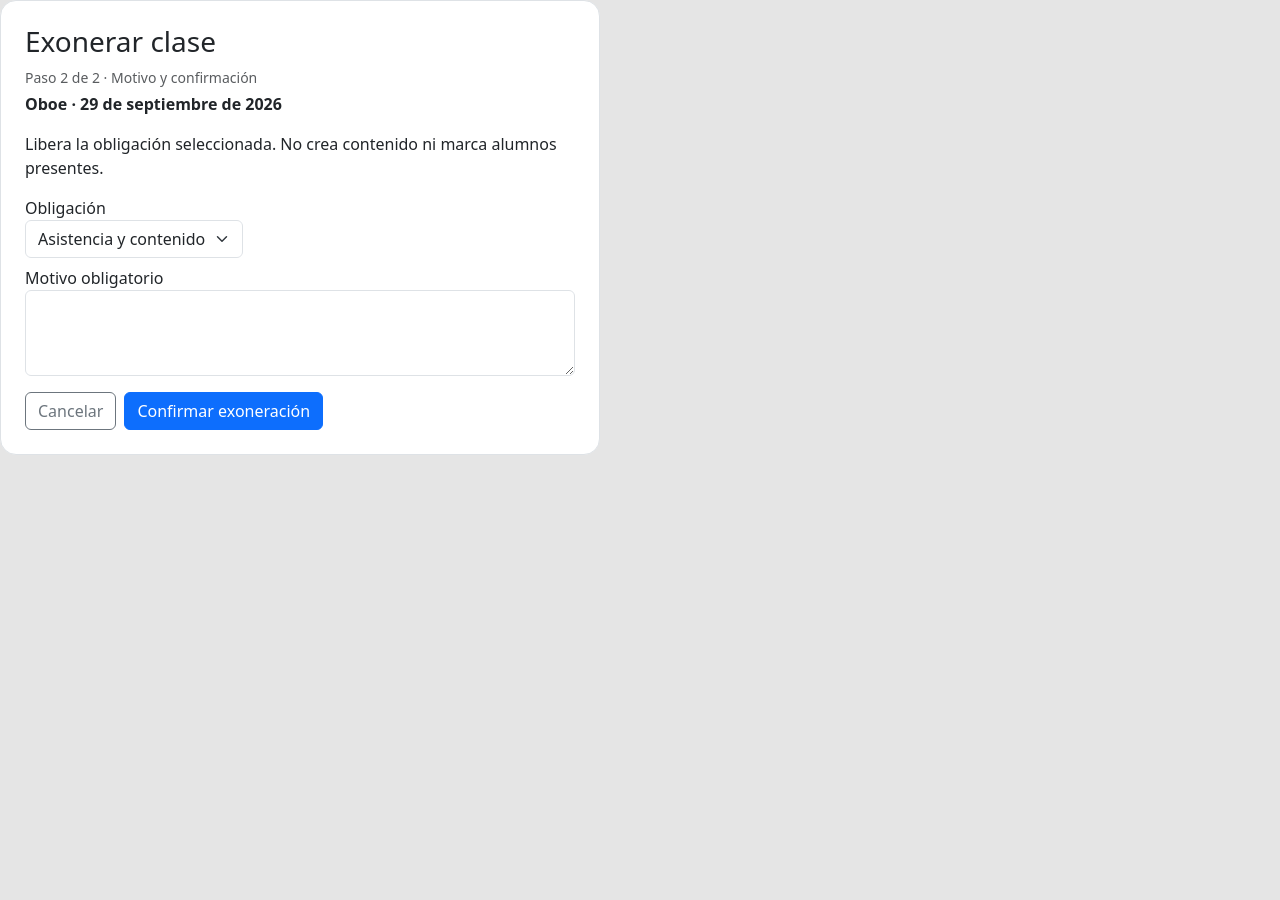
Test case: decisión administrativa › no anuncia éxito antes de persistir y conserva el motivo ante un error
The image size is (1280, 900).
Type "Incidencia de registro verificada" into the text box named "reason" at (300, 333), box [25,290,575,376]
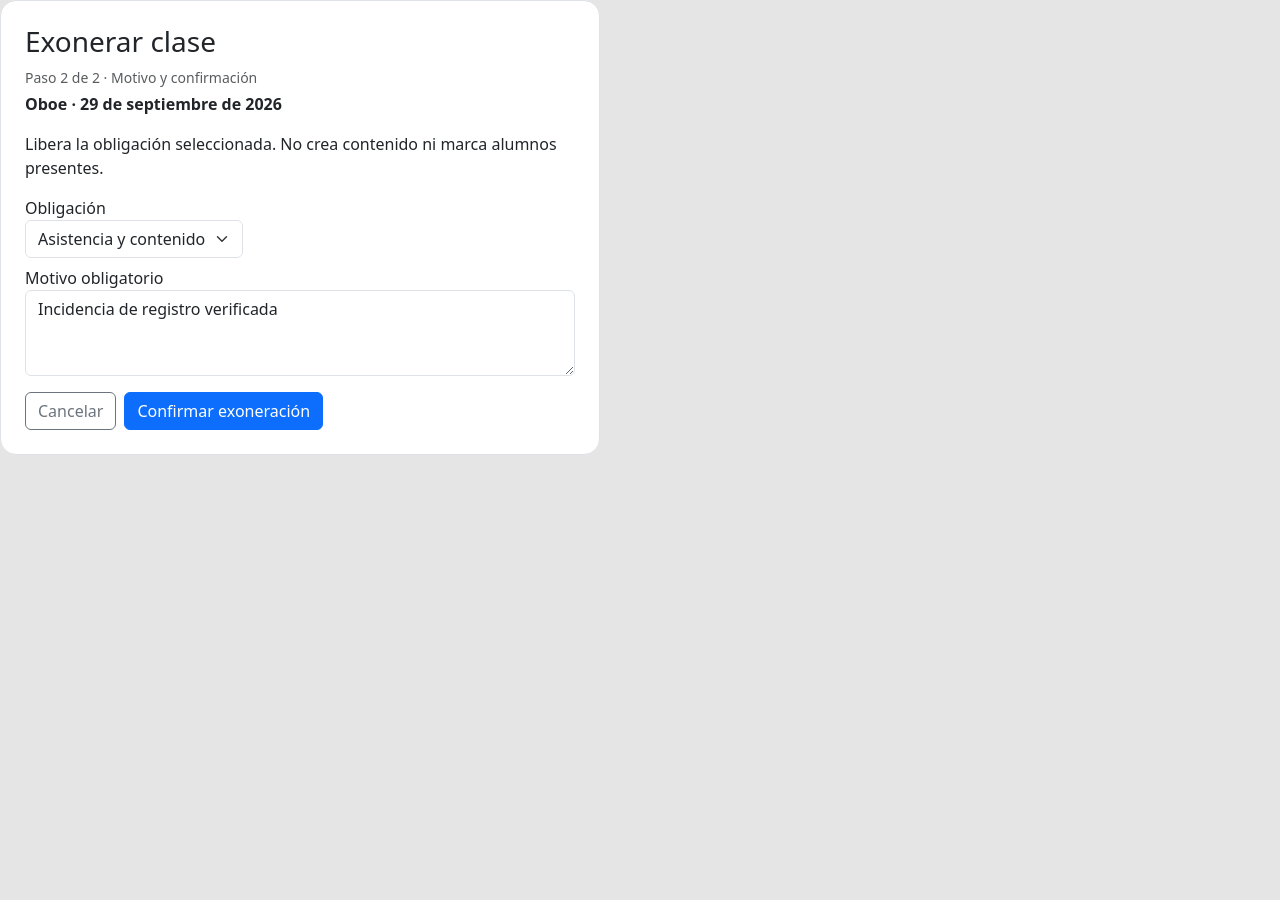
Submit the form, box [25,25,575,430]
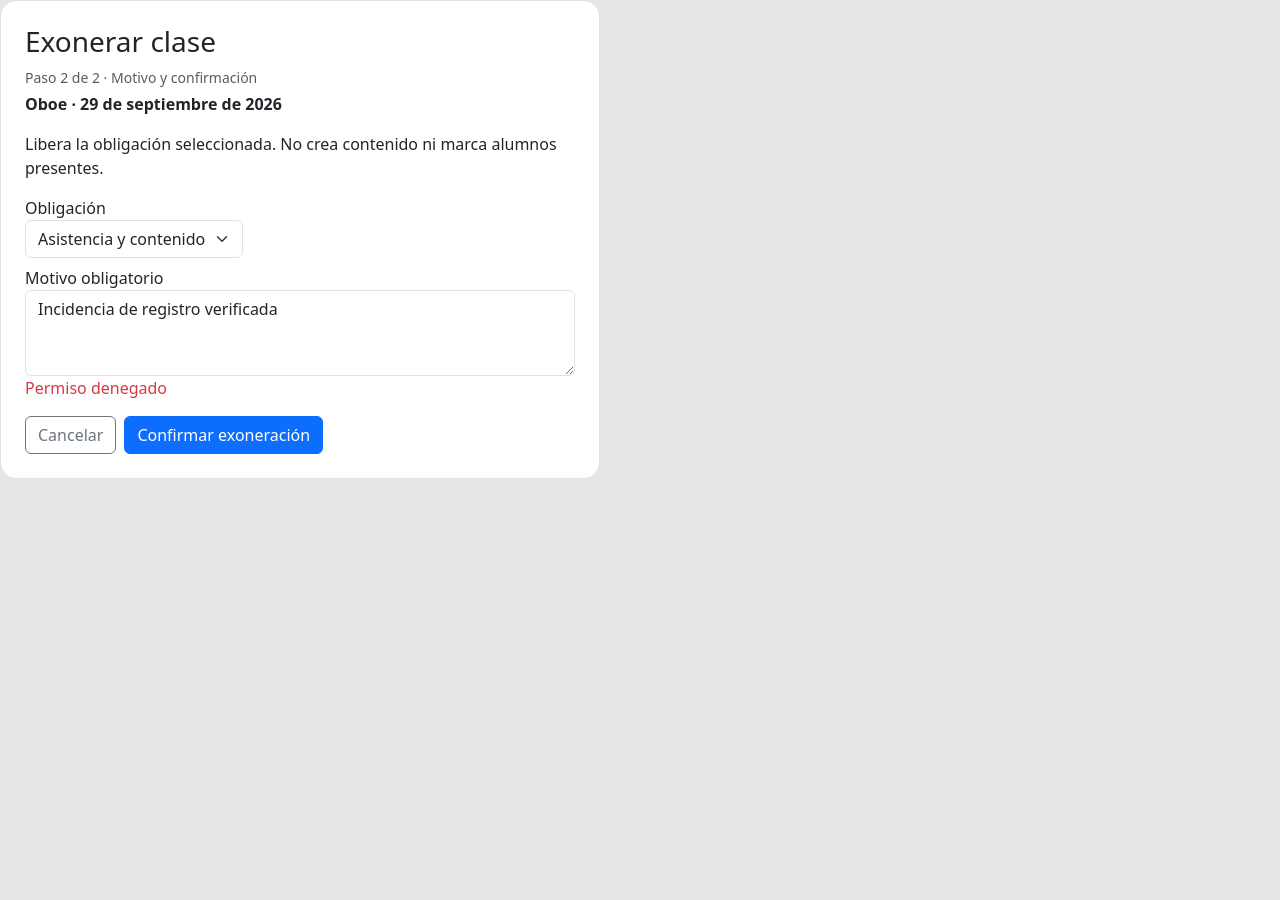
Expected: the submit button is enabled, [124,416,323,454]
Result: the message "Permiso denegado" is shown at [25,377,167,399]
